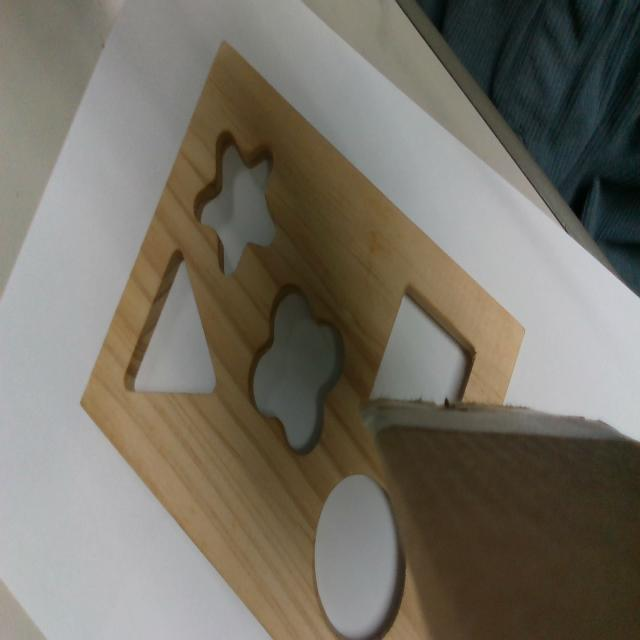circle: (316, 474, 406, 638)
flower: (245, 284, 346, 451)
square: (369, 285, 475, 401)
star: (195, 127, 275, 270)
triangle: (121, 246, 220, 396)
